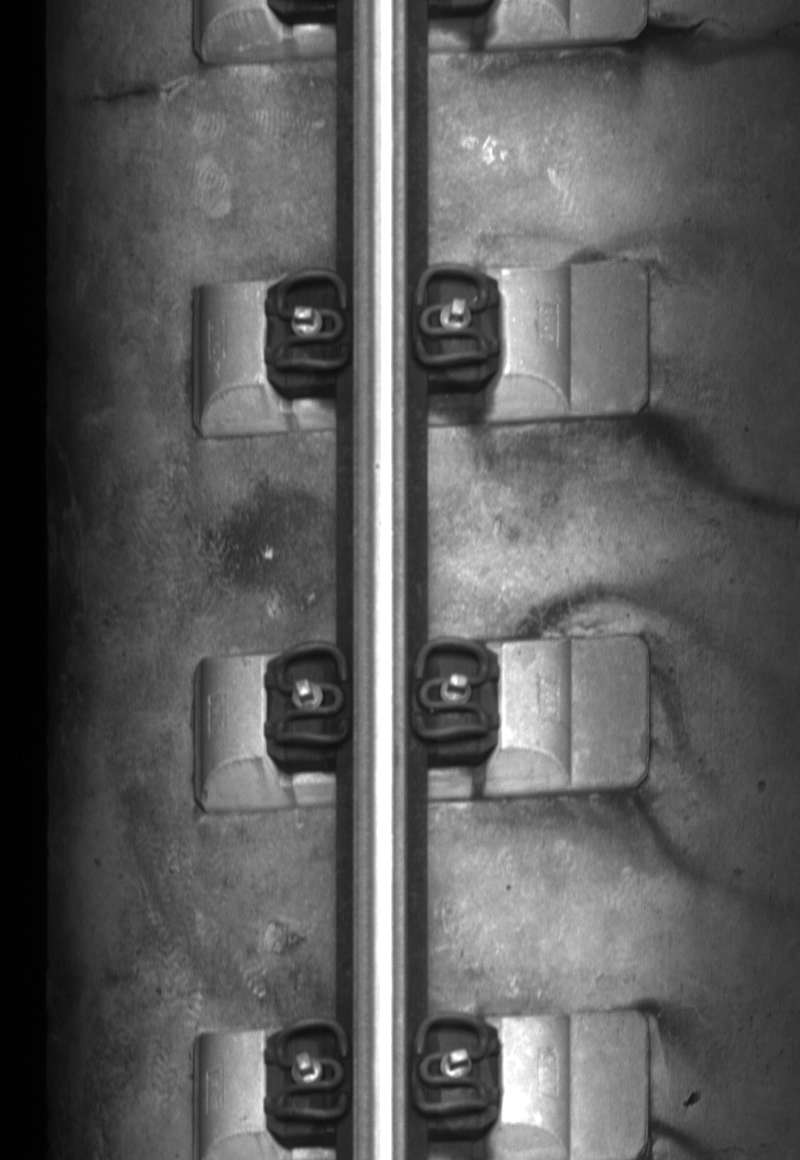l_faster: (270, 1011, 353, 1127), (270, 638, 352, 754), (268, 262, 352, 375)
r_faster: (409, 1005, 496, 1124), (408, 259, 498, 374), (410, 630, 494, 748)
